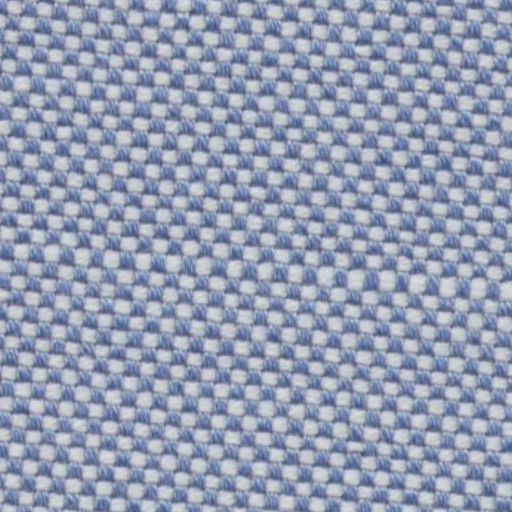TuoSha: (4, 230, 501, 324)
